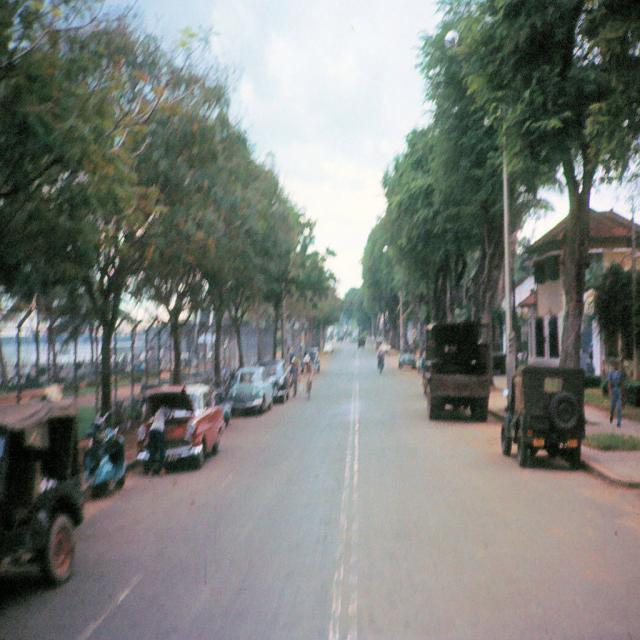car: (119, 392, 223, 479), (225, 359, 276, 416), (299, 347, 321, 371), (398, 346, 415, 368)
